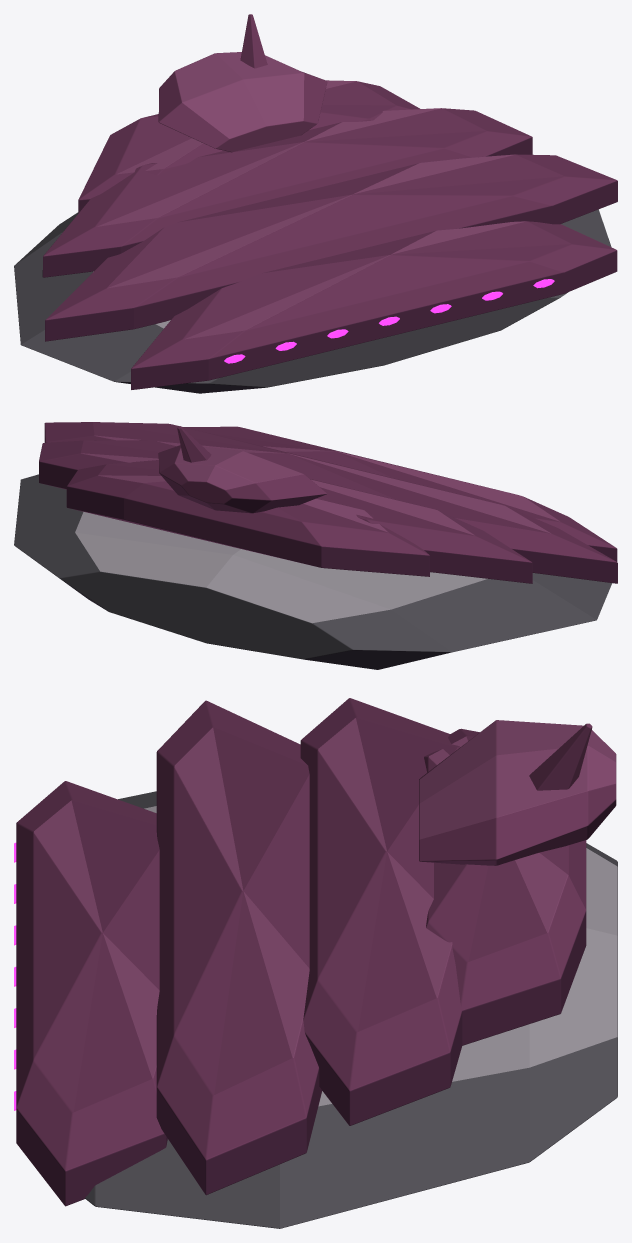
The model's file is Battleship.fbx.
3 views of the same model, one above another, from view 1: azimuth 30°, elevation 25°; view 2: azimuth 150°, elevation 25°; view 3: azimuth 270°, elevation 25° (orthographic). The views are drawn at different scales.
Visible parts, largest first — view 1: Armor 4, Armor 3, Armor 2, Armor 1; view 2: Armor 1, Armor 4, Armor 3, Armor 2; view 3: Armor 4, Armor 3, Armor 2, Armor 1.
Part boxes in pixels (left/top/right/bottom): Armor 4: left=42, top=14, right=532, bottom=277; Armor 3: left=45, top=154, right=617, bottom=363; Armor 2: left=131, top=221, right=617, bottom=389; Armor 1: left=14, top=209, right=611, bottom=393; Armor 1: left=14, top=474, right=611, bottom=669; Armor 4: left=39, top=426, right=532, bottom=583; Armor 3: left=44, top=422, right=617, bottom=583; Armor 2: left=184, top=426, right=617, bottom=561; Armor 4: left=300, top=698, right=616, bottom=1125; Armor 3: left=14, top=700, right=321, bottom=1195; Armor 2: left=14, top=781, right=167, bottom=1206; Armor 1: left=85, top=791, right=617, bottom=1228.
Size of the model in its own units: 0.2297 by 0.0904 by 0.1267.
